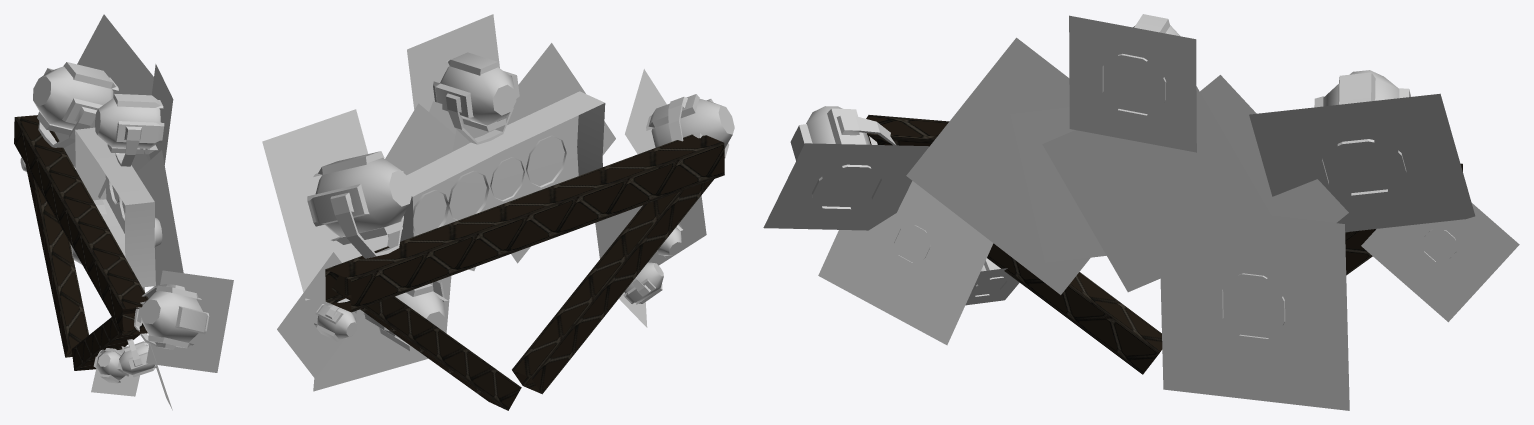
Rendered from circus_scaffolding_with_lights_01.FBX.
3 renders of one model, left to right at view 1: azimuth 30°, elevation 25°; view 2: azimuth 150°, elevation 25°; view 3: azimuth 270°, elevation 25°, orthographic. The views are drawn at different scales.
Parts seen in each view (by area): view 1: circus_spotlight_group, circus_scaffolding_03, circus_light_panel_01; view 2: circus_spotlight_group, circus_scaffolding_03, circus_light_panel_01; view 3: circus_spotlight_group, circus_light_panel_01, circus_scaffolding_03.
Boxes of the visible parts, bbox=[...] form: circus_spotlight_group: bbox=[20, 14, 233, 410]; circus_scaffolding_03: bbox=[14, 115, 148, 370]; circus_light_panel_01: bbox=[75, 127, 183, 287]; circus_spotlight_group: bbox=[262, 14, 734, 391]; circus_scaffolding_03: bbox=[325, 134, 724, 410]; circus_light_panel_01: bbox=[385, 43, 615, 283]; circus_spotlight_group: bbox=[763, 14, 1519, 410]; circus_light_panel_01: bbox=[906, 37, 1348, 294]; circus_scaffolding_03: bbox=[866, 115, 1462, 374].
Size of the model in its own units: 81.86 by 120 by 206.
